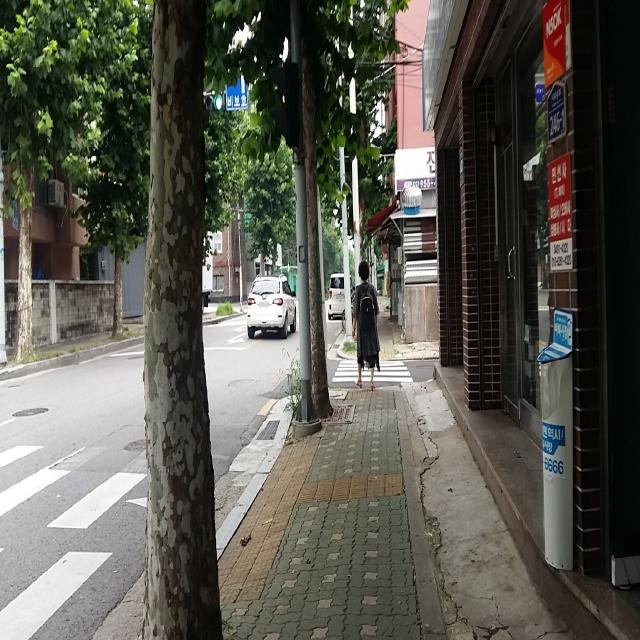횡단보도: (0, 445, 130, 636), (332, 360, 414, 383)
